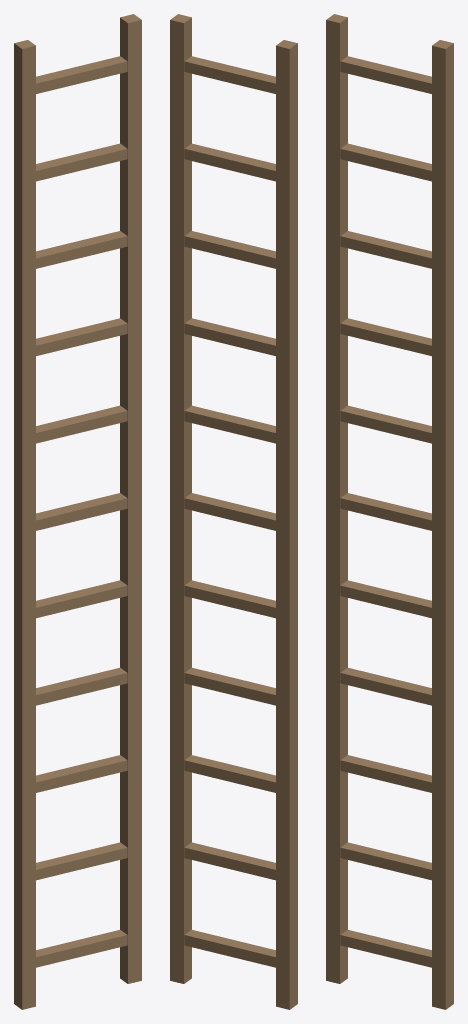
File: work-ladder-11.glb
3 renders of one model, left to right at view 1: azimuth 30°, elevation 25°; view 2: azimuth 150°, elevation 25°; view 3: azimuth 330°, elevation 25°, orthographic.
Visible parts, largest first — view 1: work-ladder; view 2: work-ladder; view 3: work-ladder.
Part boxes in pixels (box(x1,y1,x2,y2)): work-ladder: box(14, 14, 141, 1009); work-ladder: box(170, 14, 297, 1009); work-ladder: box(326, 14, 453, 1009).
Bounding box in the file's own units: 0.43 × 3.3 × 0.05.
